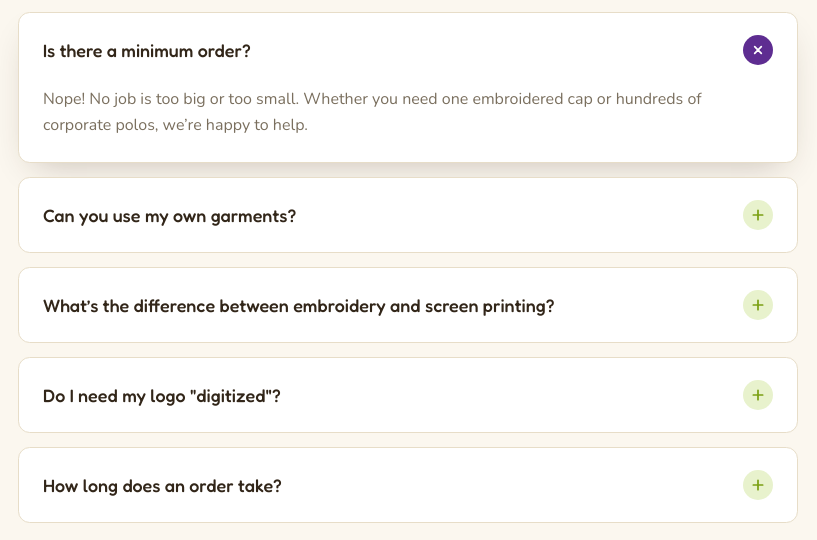
it: FAQ accordion › closes an open question when clicked again
This screenshot has width=817, height=540.
Click the button "Is there a minimum order?".
click(147, 50)  # box x1=19 y1=13 x2=797 y2=87
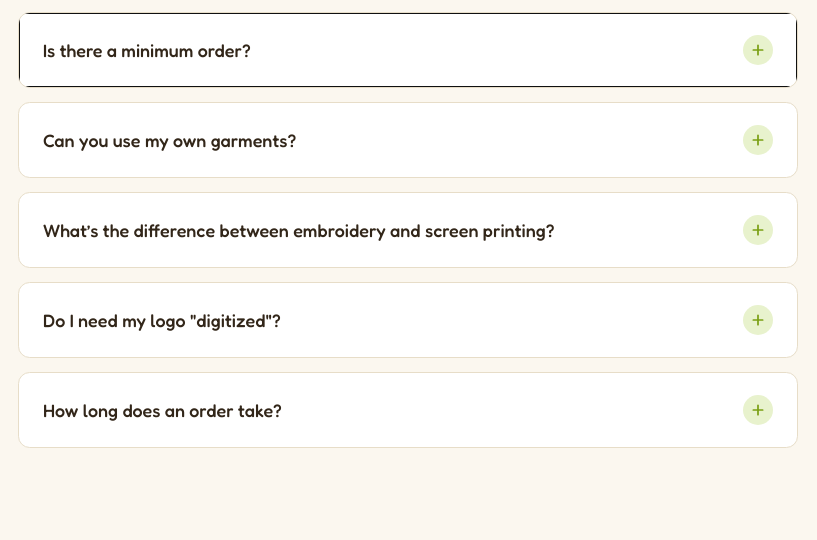
Expected: the button "Is there a minimum order?" is collapsed, x1=19 y1=13 x2=797 y2=87
